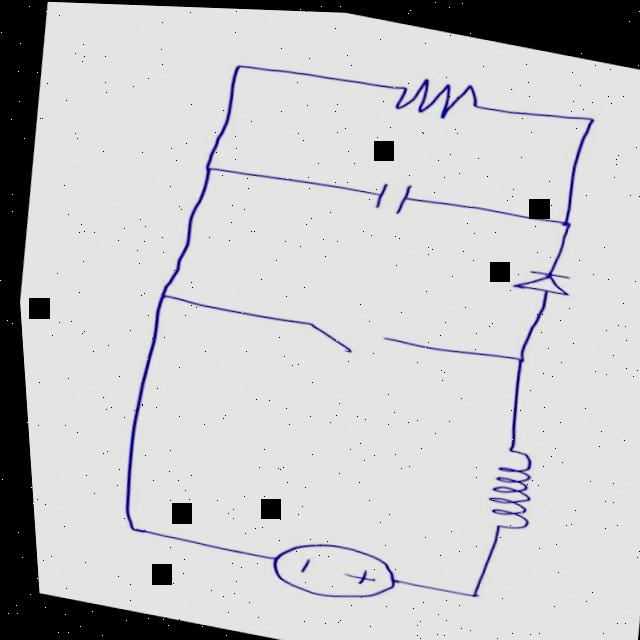capacitor: (340, 169, 436, 223)
diode: (484, 240, 594, 319)
inductor: (445, 430, 557, 540)
resistor: (354, 58, 509, 132)
source: (240, 520, 409, 614)
switch: (277, 299, 457, 372)
